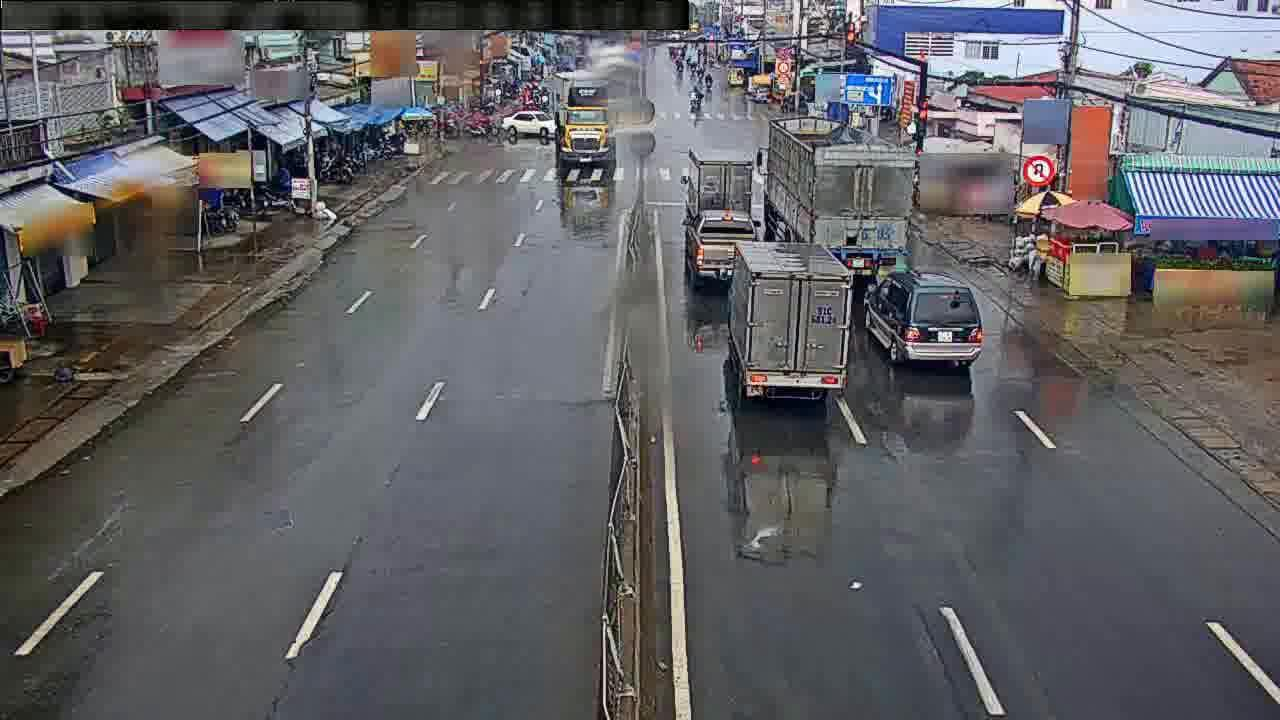car: (865, 271, 981, 371), (683, 208, 753, 281), (505, 105, 546, 140)
container: (768, 117, 910, 253), (735, 246, 847, 401), (557, 73, 612, 171), (688, 146, 752, 204)
motorbike: (688, 77, 703, 107)
